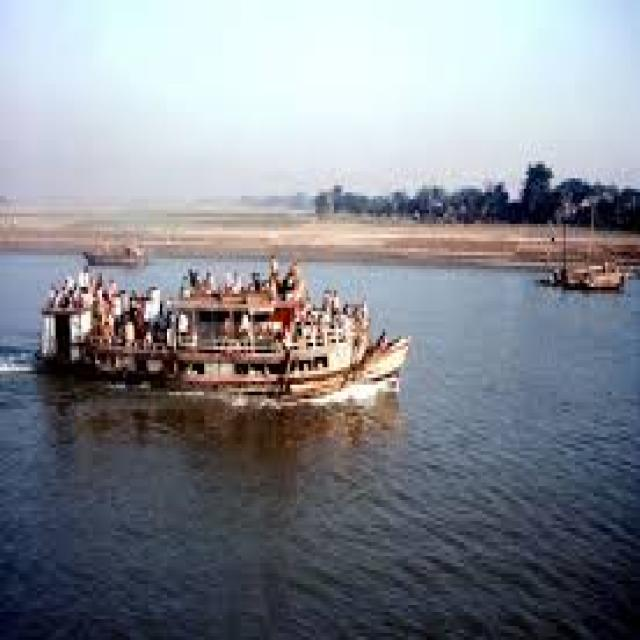houseboat: (37, 255, 424, 423)
